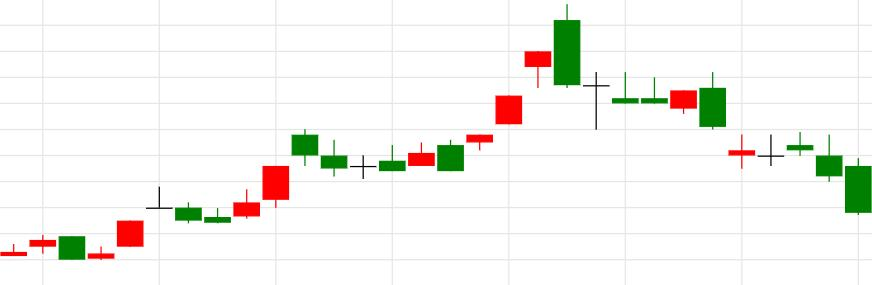bearish_engulfing_fall: (436, 4, 581, 172)
